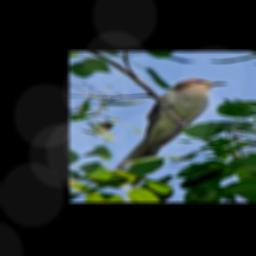Cuckoo: (115, 79, 228, 187)
